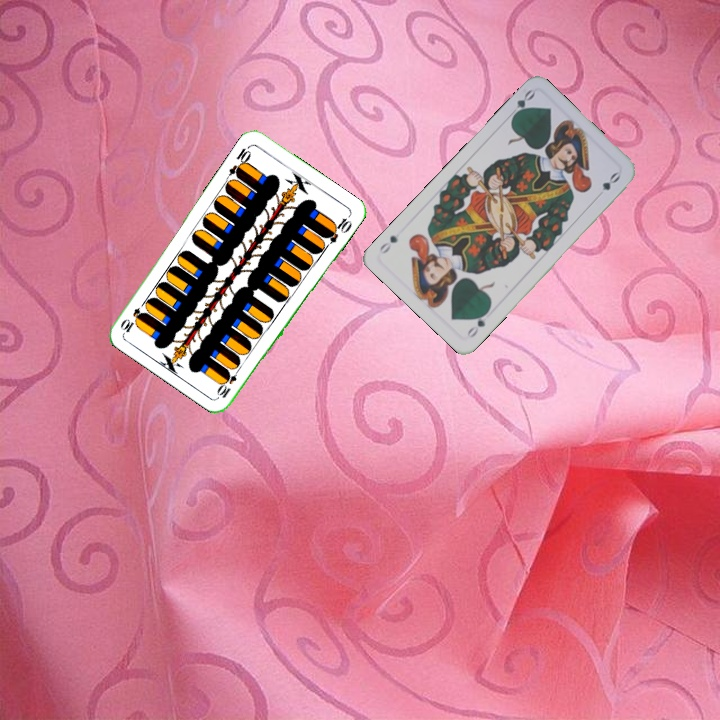E10: (214, 363, 243, 401), (225, 142, 254, 180)
GO: (504, 86, 537, 122), (462, 306, 492, 341)
